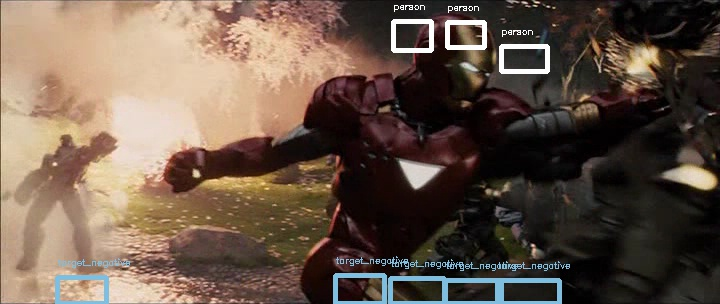person: (416, 21, 492, 101), (415, 21, 491, 101), (417, 21, 493, 101), (416, 20, 492, 100), (416, 22, 492, 102)
target_negative: (104, 51, 565, 170), (364, 128, 575, 297), (592, 42, 652, 202), (651, 248, 702, 297), (686, 169, 717, 185), (471, 263, 503, 267)
